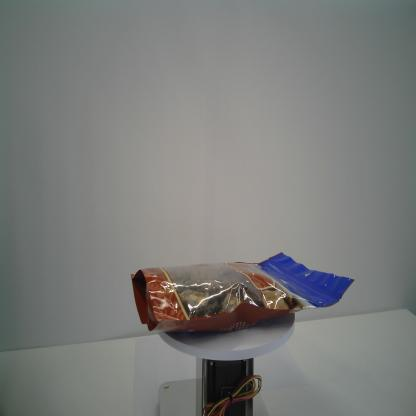Dried Food: (130, 250, 356, 334)
